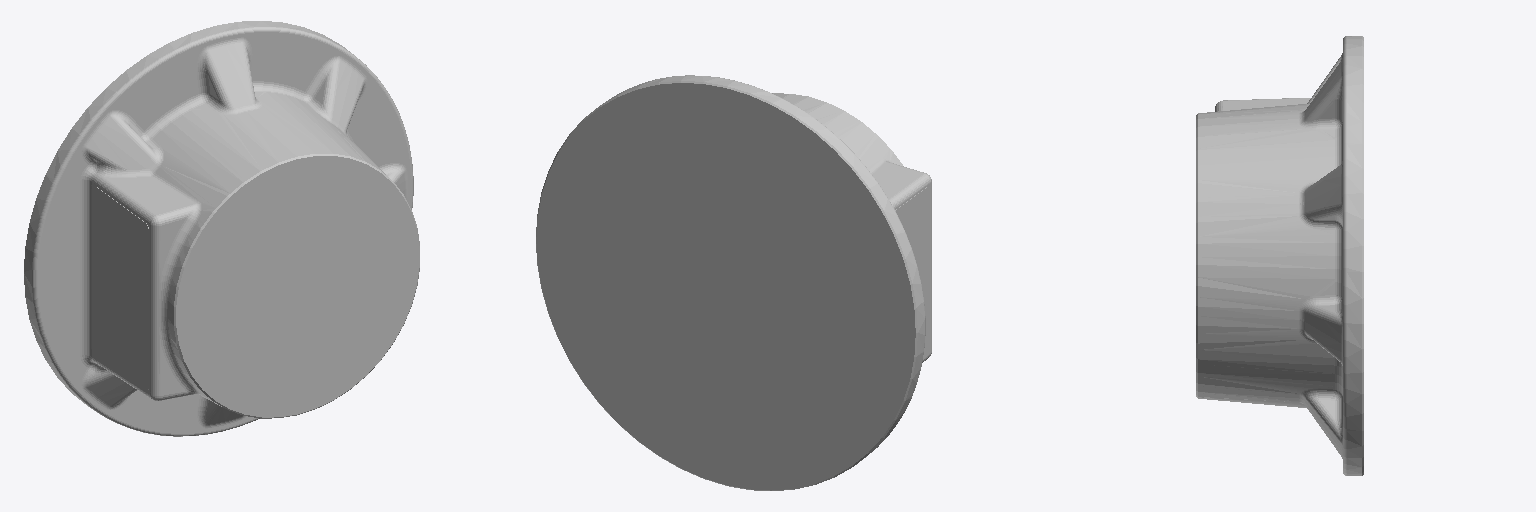
File: right_arm_base_link_visuals.obj
3 renders of one model, left to right at view 1: azimuth 30°, elevation 25°; view 2: azimuth 150°, elevation 25°; view 3: azimuth 270°, elevation 25°, orthographic.
Size of the model in its own units: 0.2105 by 0.2105 by 0.08.